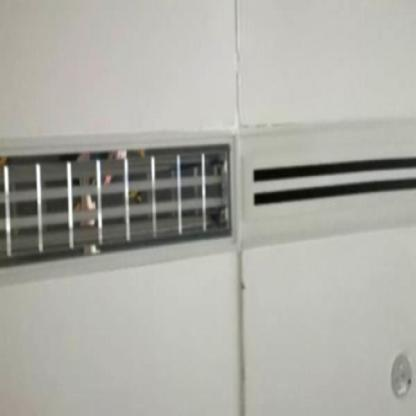light_off: (0, 76, 238, 316)
